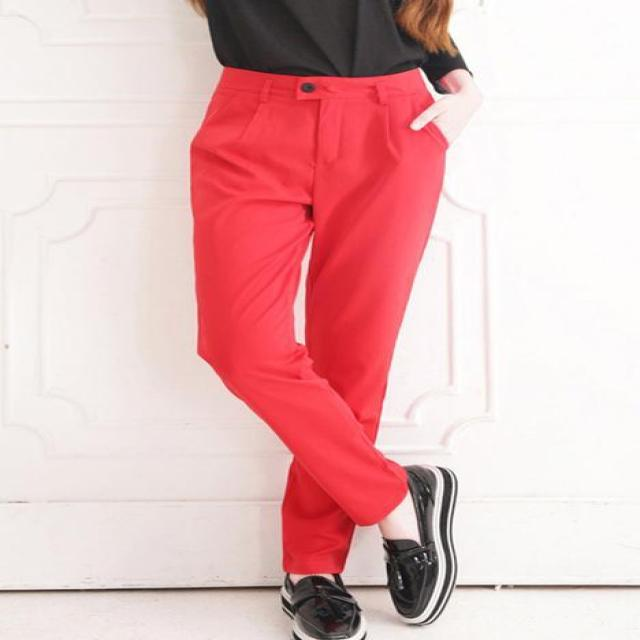long sleeve top: (200, 2, 420, 77)
trousers: (191, 68, 427, 459)
